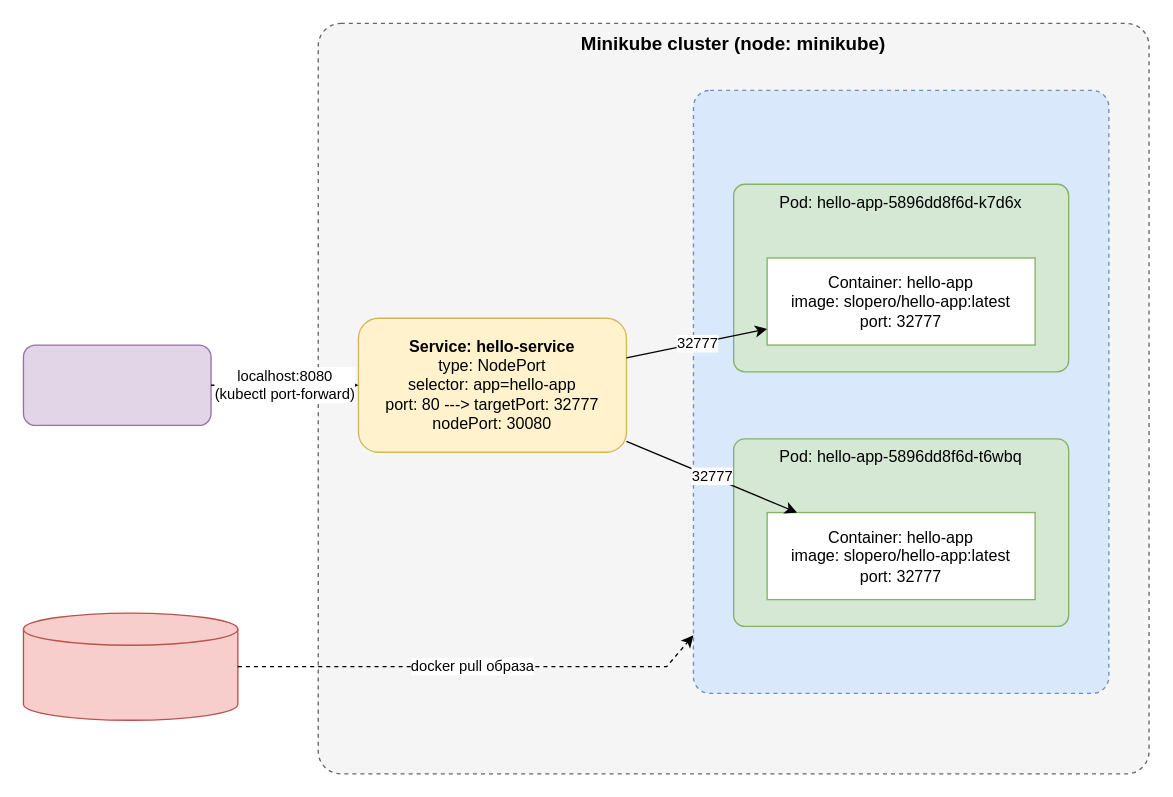
This 1173x797 diagram has some shape labels left out. Each missing label, with the centre of its shape:
Docker Hub slopero/hello-app:1.0: pixel 130 666
Браузер (пользователь): pixel 116 384
